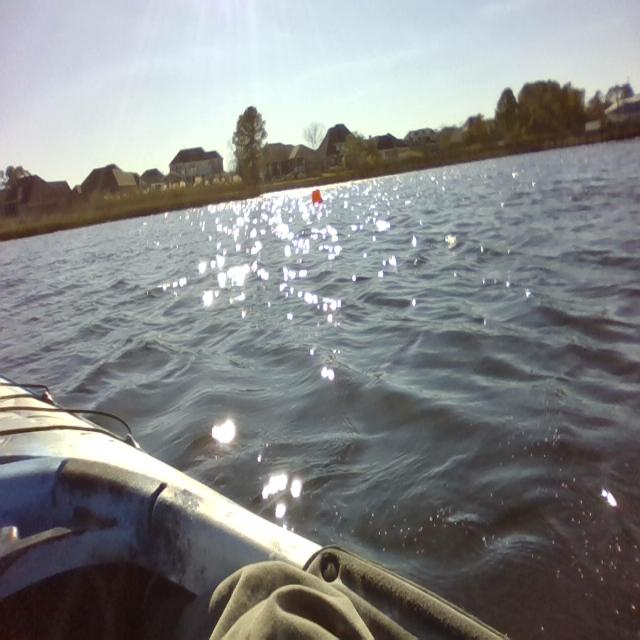Buoy: (306, 181, 327, 214)
